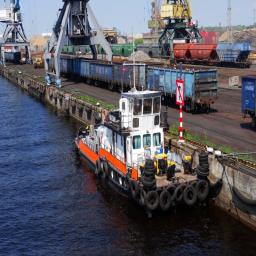tugboat: (74, 34, 211, 223)
